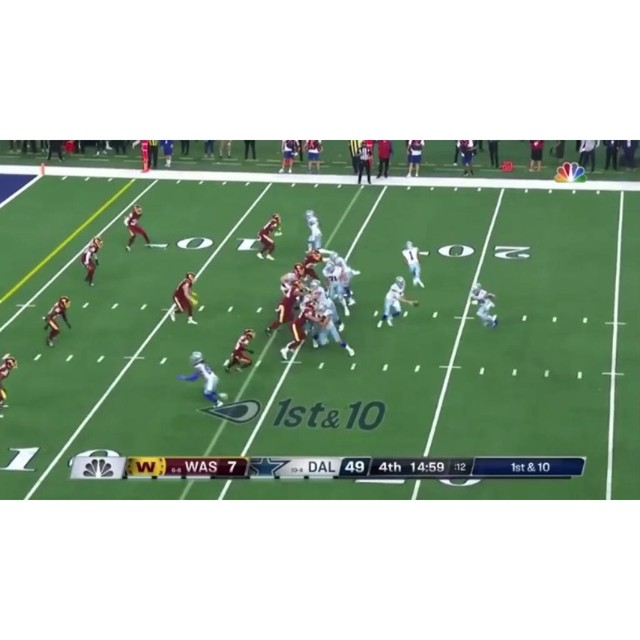american-football-player: (178, 351, 228, 408), (313, 300, 355, 356), (281, 299, 318, 360), (265, 280, 305, 336), (376, 276, 414, 329), (330, 251, 361, 304), (170, 272, 200, 326), (43, 295, 72, 348), (468, 282, 500, 329), (223, 328, 255, 373), (123, 204, 152, 251), (401, 239, 426, 288), (257, 213, 282, 261), (0, 354, 19, 412), (80, 237, 102, 287), (304, 209, 324, 252), (279, 262, 305, 294), (303, 248, 324, 283)
referee: (355, 141, 372, 186)
